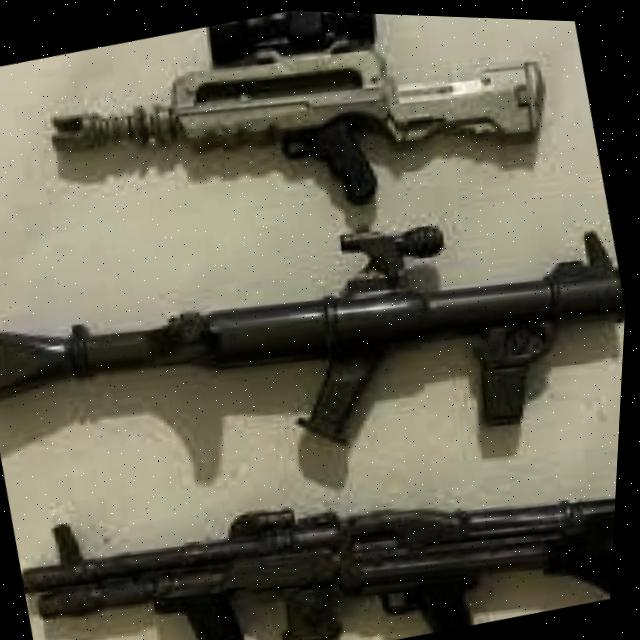rocket: (0, 140, 634, 536)
